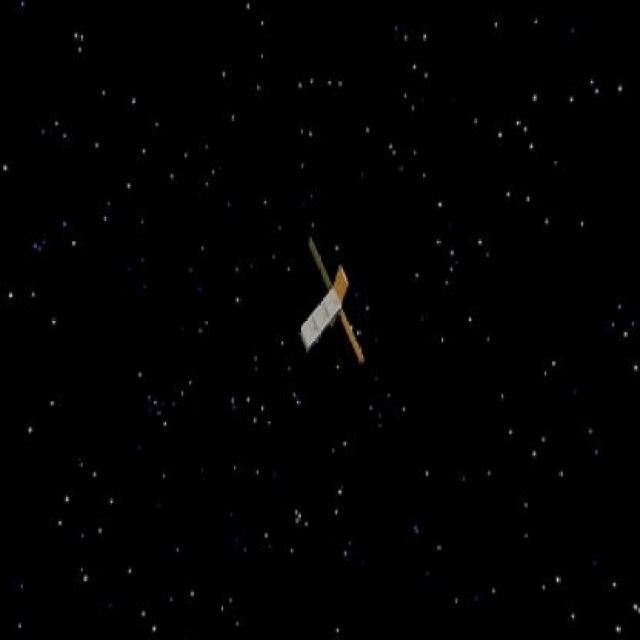medium_debris: (302, 236, 375, 364)
